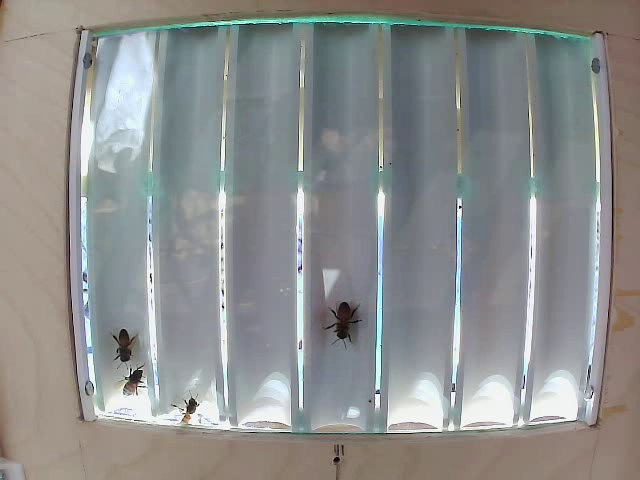bee: (323, 291, 365, 361), (164, 386, 214, 431), (97, 316, 136, 363), (106, 360, 137, 400)
